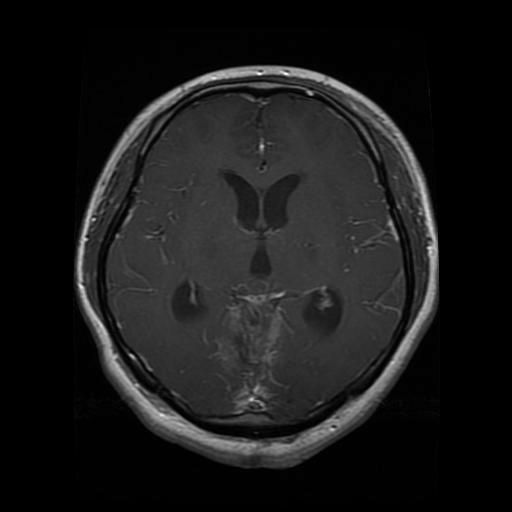Tumour-Glioma: (365, 179, 429, 311)
